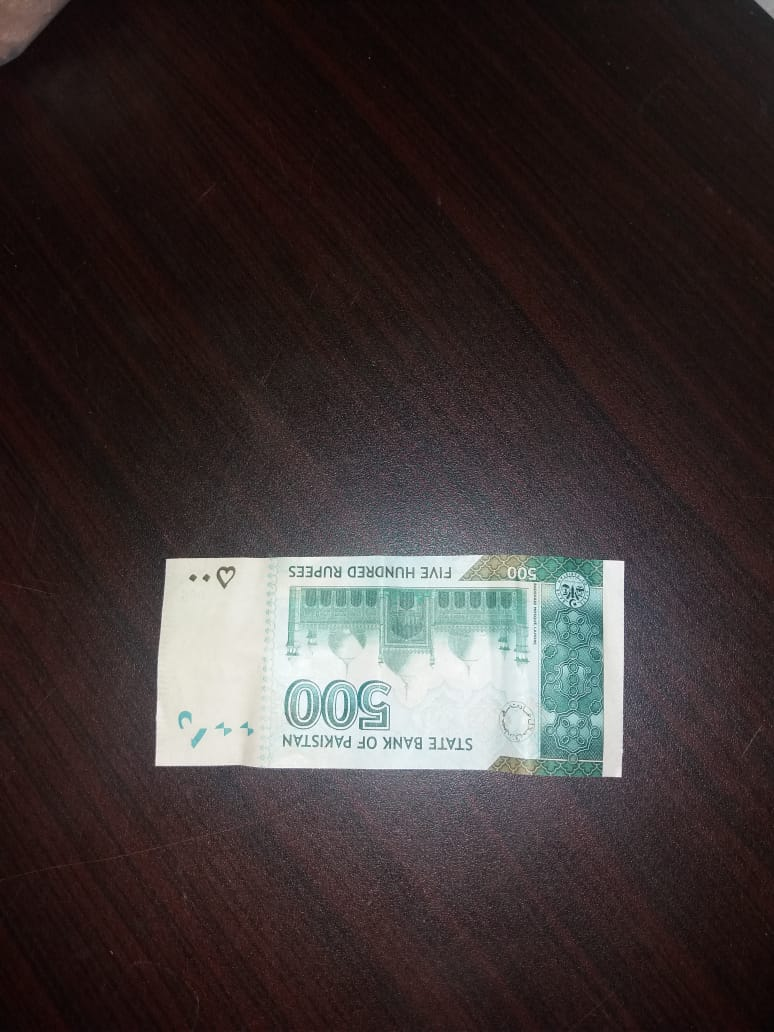500 rupee: (152, 556, 629, 793)
